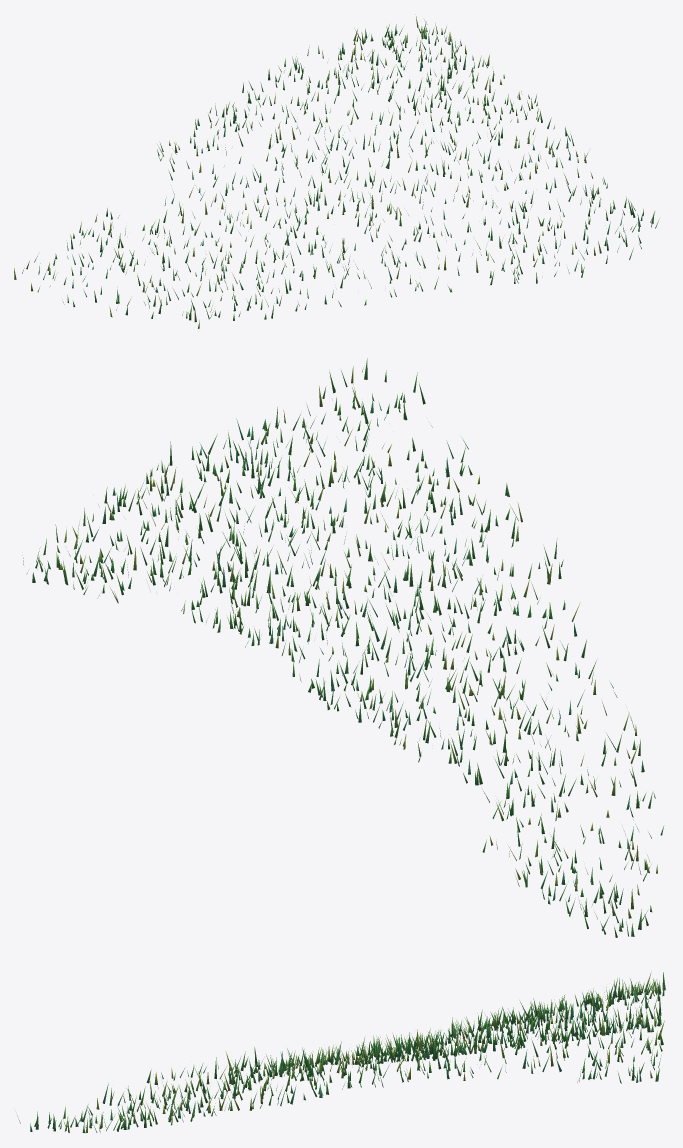
The picture shows the model from 3 angles, top to bottom: view 1: azimuth 30°, elevation 25°; view 2: azimuth 150°, elevation 25°; view 3: azimuth 270°, elevation 25°; orthographic projection. The views are drawn at different scales.
Visible parts, largest first — view 1: gc_6; view 2: gc_6; view 3: gc_6.
Boxes of the visible parts, x1,y1,x2,y2 form: gc_6: (14,14,659,328); gc_6: (22,358,664,937); gc_6: (17,972,665,1133).
Size of the model in its own units: 9.97 by 3.81 by 10.11.
1 material, 1 textured.
